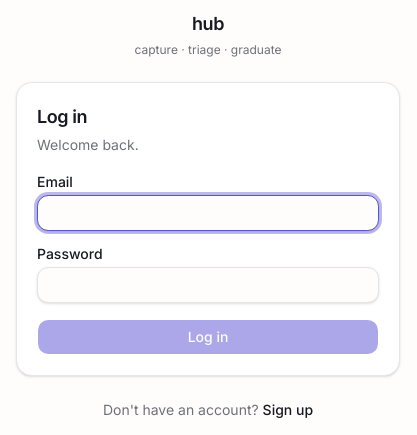
Test: LoginPage › disables submit until both fields are filled
Expected: the button "Log in" is disabled, [37,319,379,355]
Type "me@example.com" into the field labelled "Email" at x=208, y=213, box [37,195,379,231]
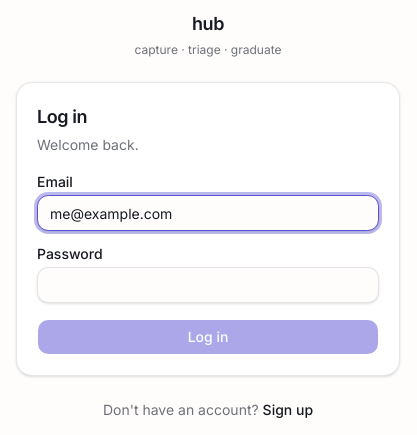
Expected: the button "Log in" is disabled, [37,319,379,355]
Type "secret123" into the password field labelled "Password" at x=208, y=285, box [37,267,379,303]
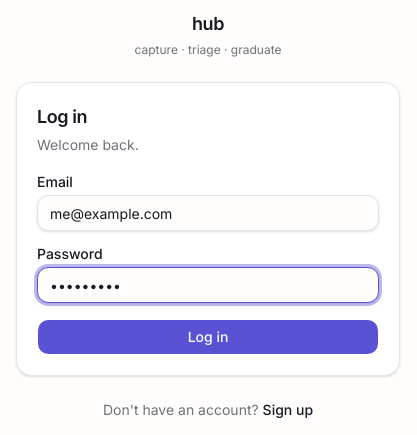
Now the button "Log in" is enabled, box [37,319,379,355]
